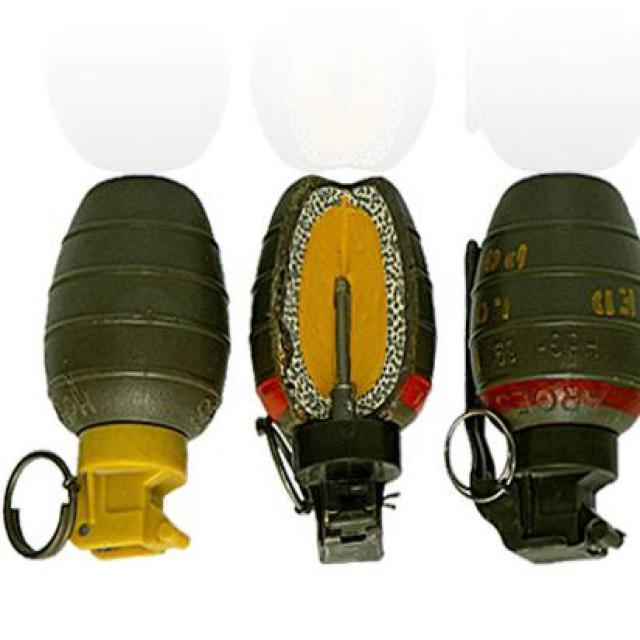grenade: (3, 174, 232, 564), (441, 170, 640, 569), (249, 175, 441, 567)
